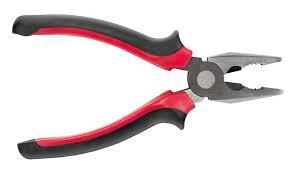pliers: (10, 13, 282, 159)
